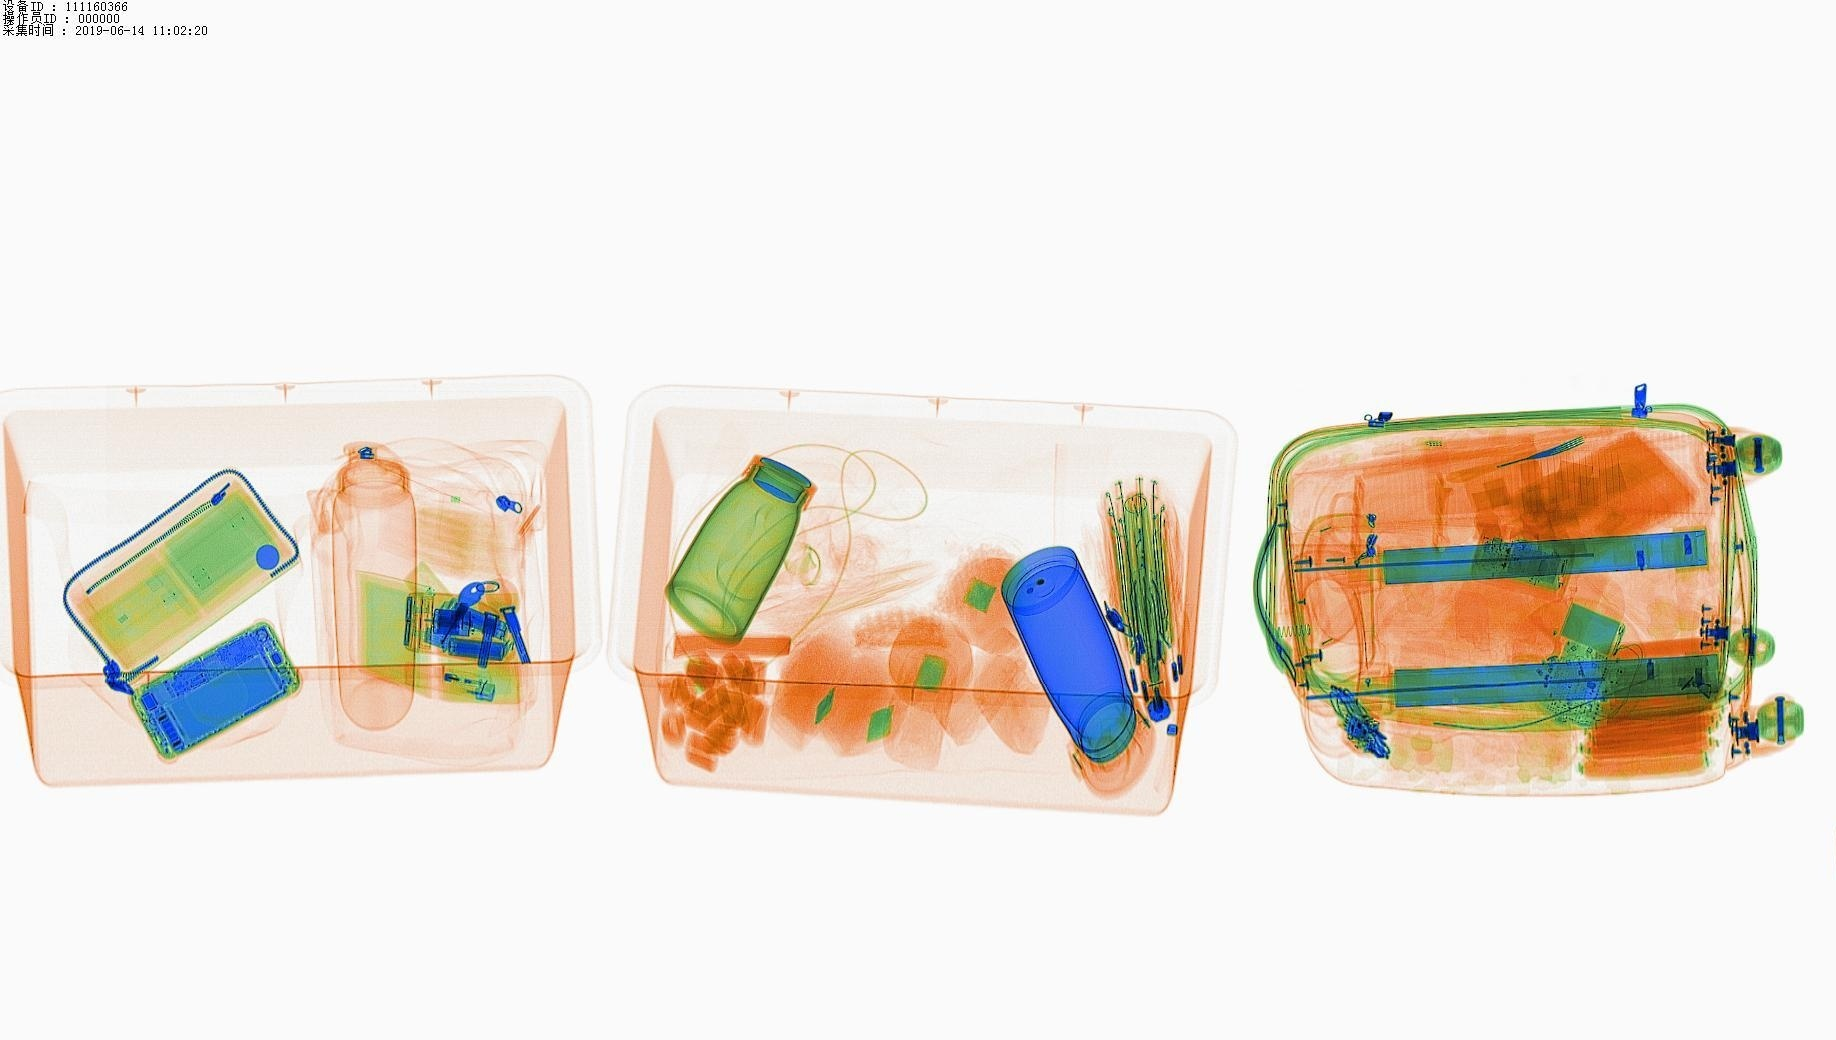NonmetallicFire: (393, 661, 504, 706)
